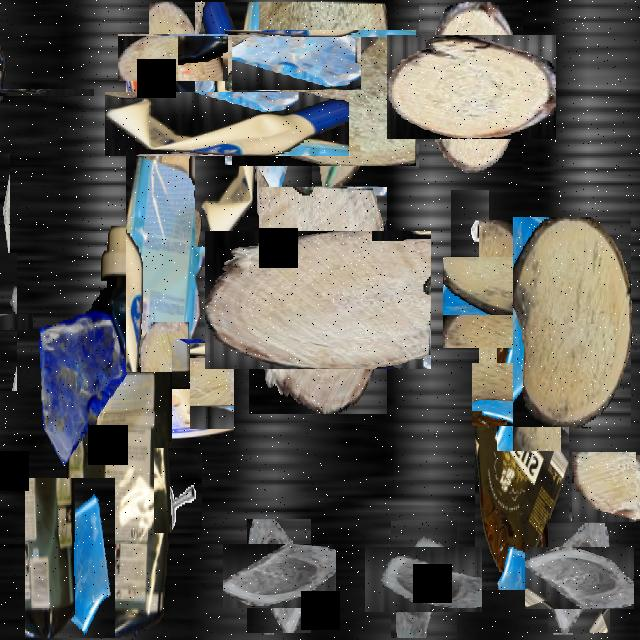glass: (461, 238, 589, 366), (33, 306, 127, 473), (25, 478, 115, 638), (236, 58, 312, 194), (378, 534, 470, 625), (484, 350, 574, 439), (234, 532, 324, 620), (536, 535, 622, 621), (0, 283, 47, 360), (0, 151, 10, 301)
metal: (154, 448, 202, 533), (451, 190, 489, 258)
plastic: (64, 226, 172, 638), (126, 62, 212, 372), (150, 47, 304, 202), (475, 398, 569, 590), (116, 333, 228, 446), (0, 45, 50, 139)
wood: (227, 209, 409, 392), (238, 16, 402, 180), (513, 217, 631, 427), (402, 18, 540, 156), (134, 18, 212, 96), (571, 453, 638, 521)
